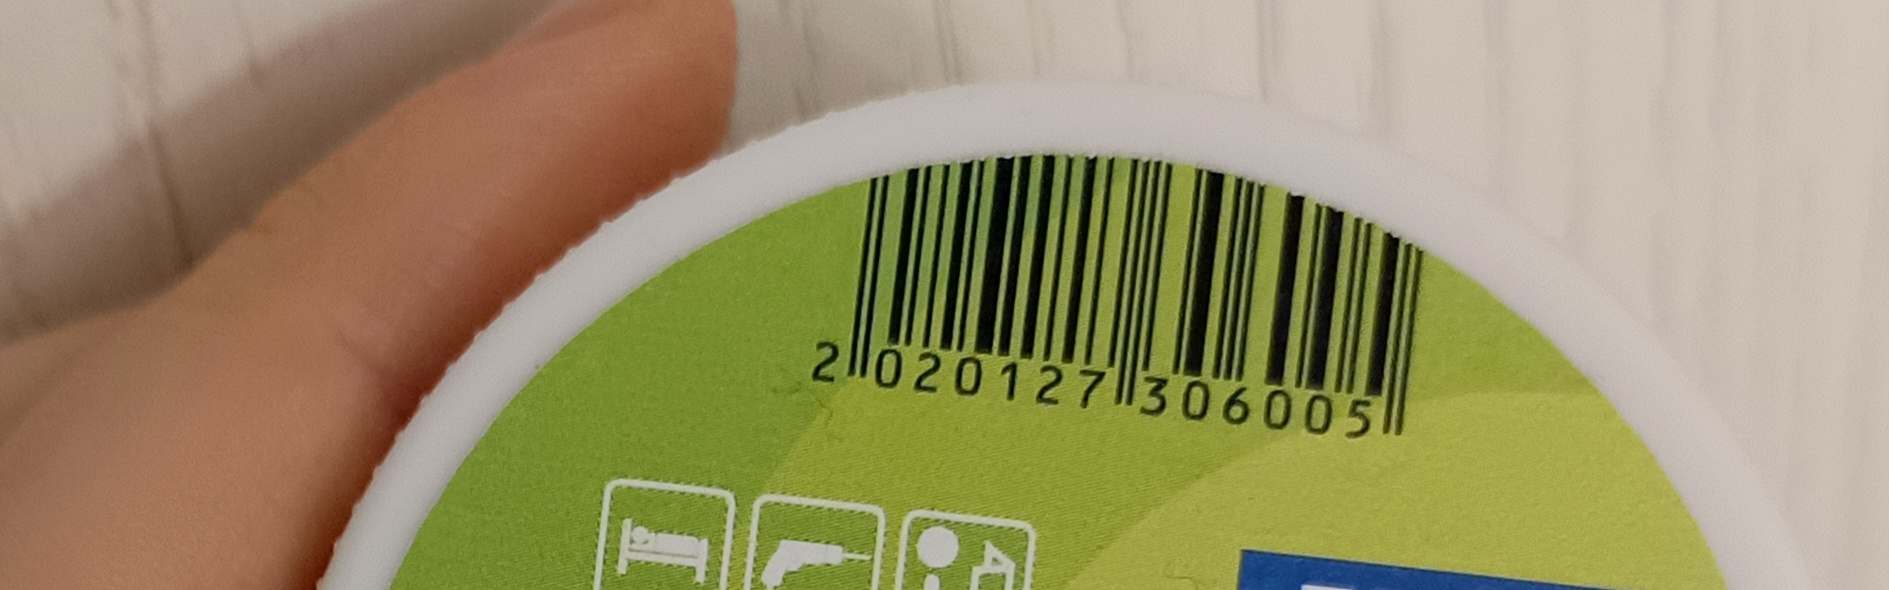1d: (842, 144, 1428, 397)
